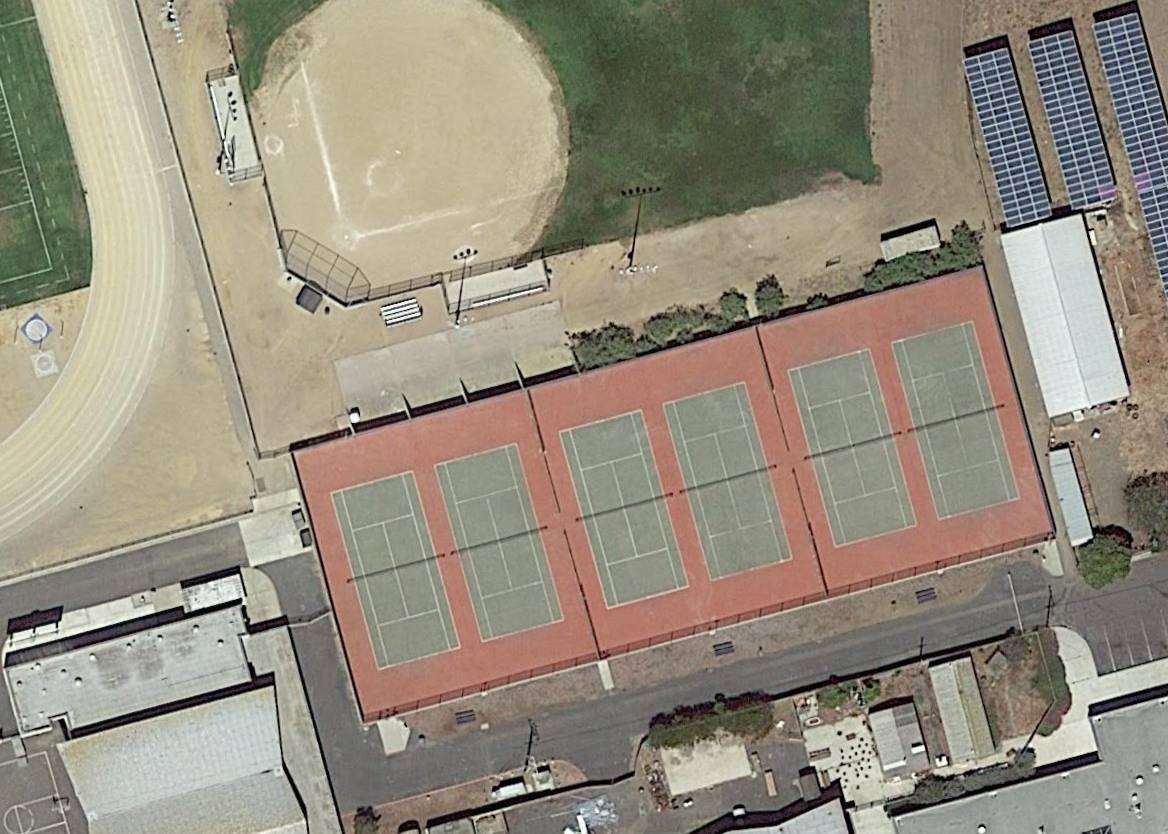baseball diamond: (281, 0, 594, 240)
tennis court: (557, 410, 691, 611), (433, 443, 566, 643), (330, 470, 463, 670), (890, 321, 1022, 522), (787, 347, 918, 549), (662, 382, 794, 580)
